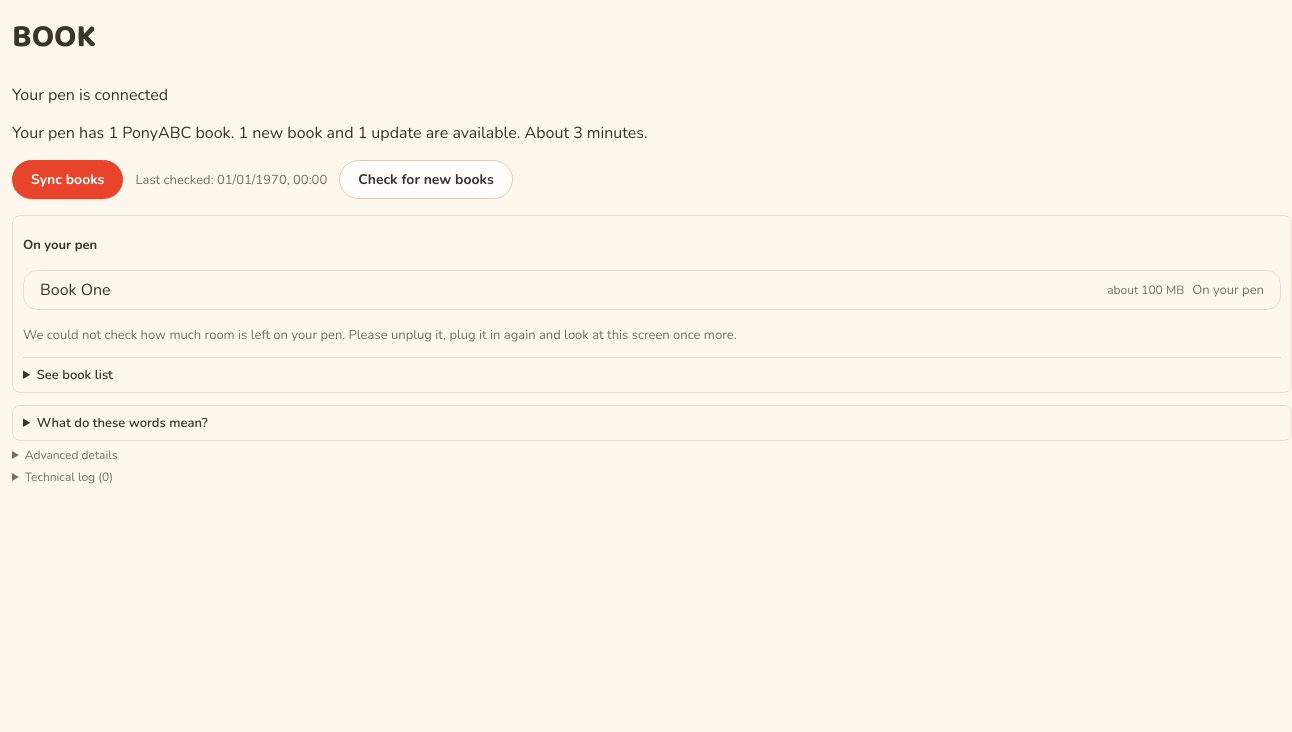
Scenario: BookLibraryScreen — rebuilding the pen's book list › resets when the card filled up AFTER one book had been written
Check: the text "Last checked: 01/01/1970, 00:00" is shown, box left=135, top=171, right=327, bottom=189
Step 1. Click the button "Sync books" → (68, 180), box left=12, top=160, right=123, bottom=199
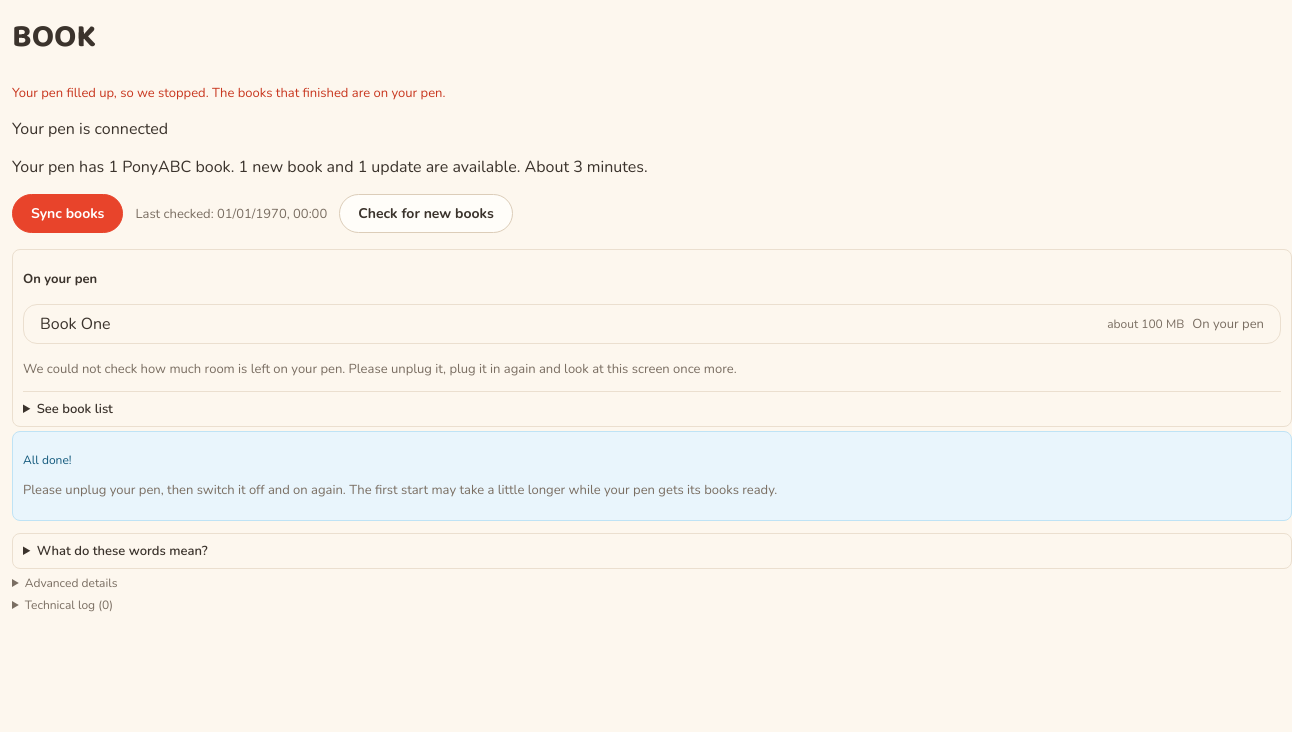
Check: the text "Your pen filled up, so we stopped. The books that finished are on your pen." is shown, box left=12, top=84, right=445, bottom=102
Check: the text "All done!" is shown, box left=23, top=452, right=72, bottom=468
